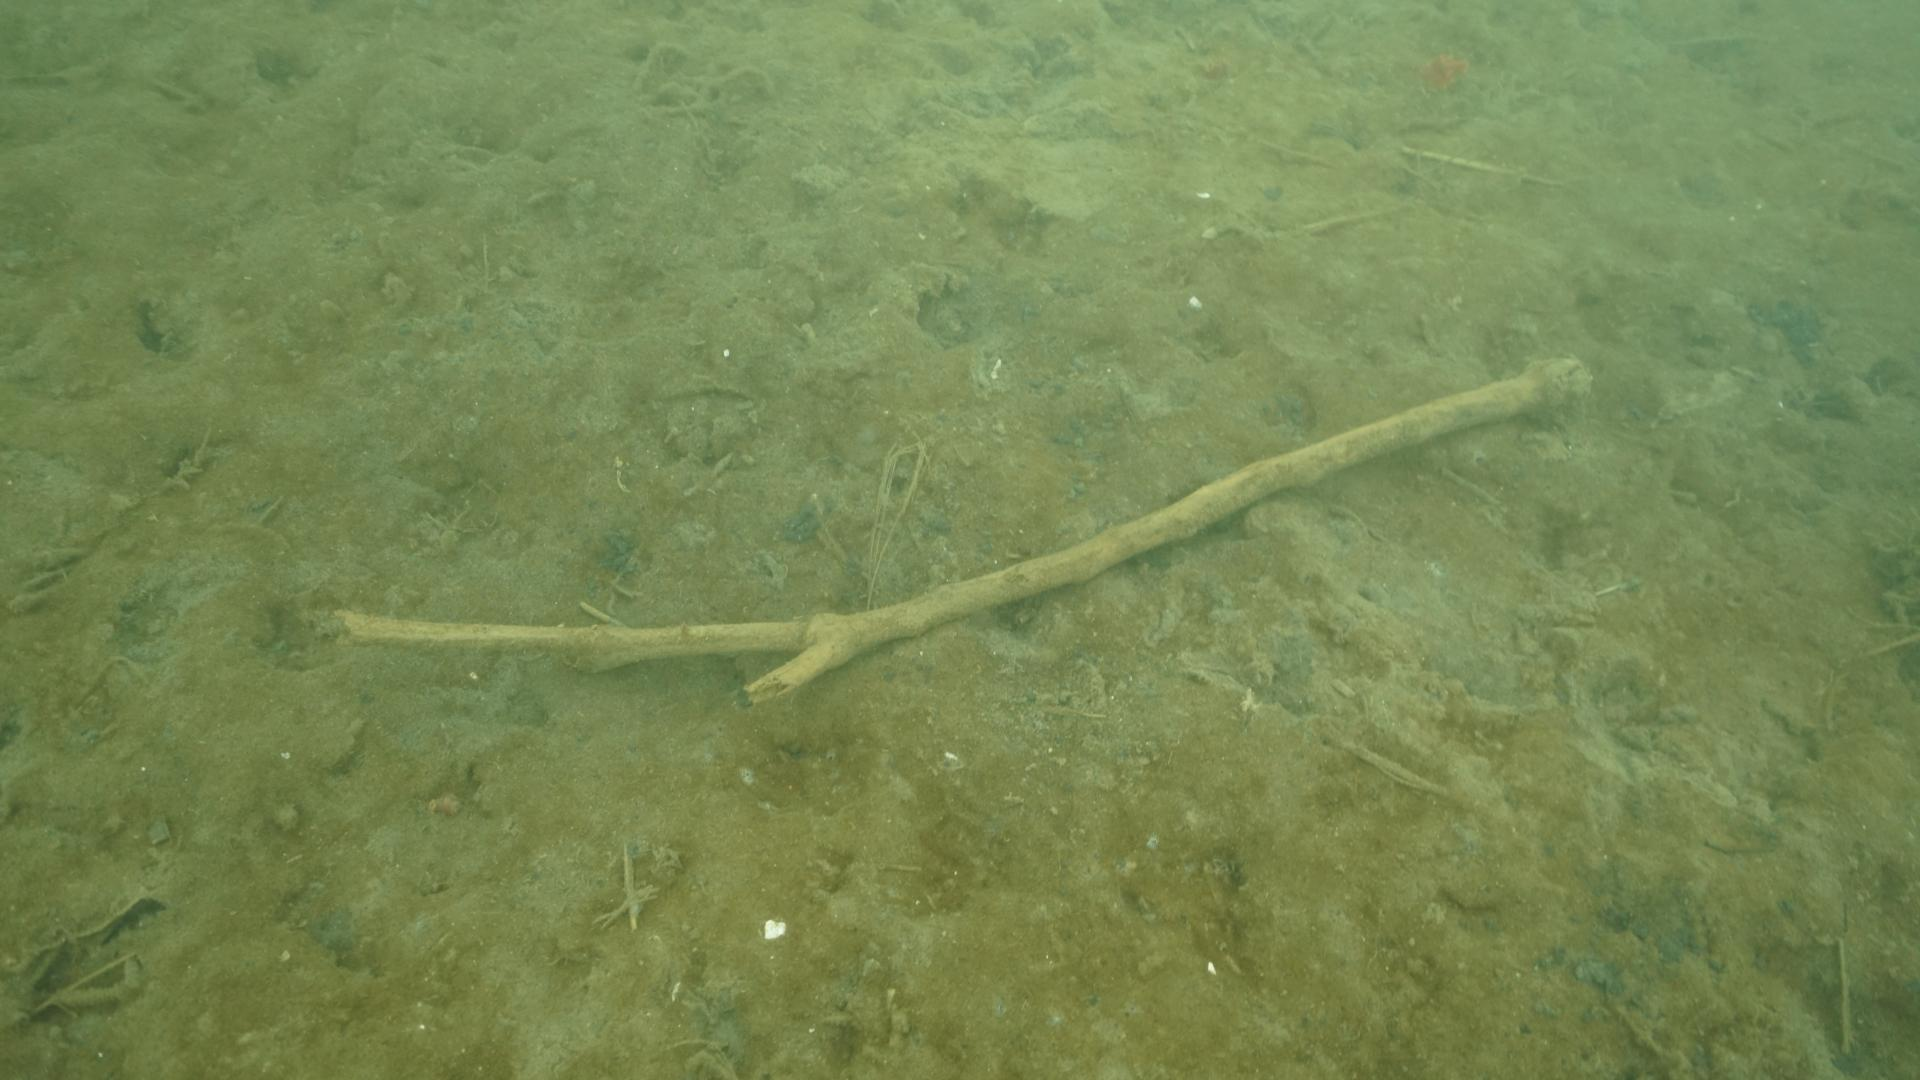wood: (335, 353, 1592, 704)
